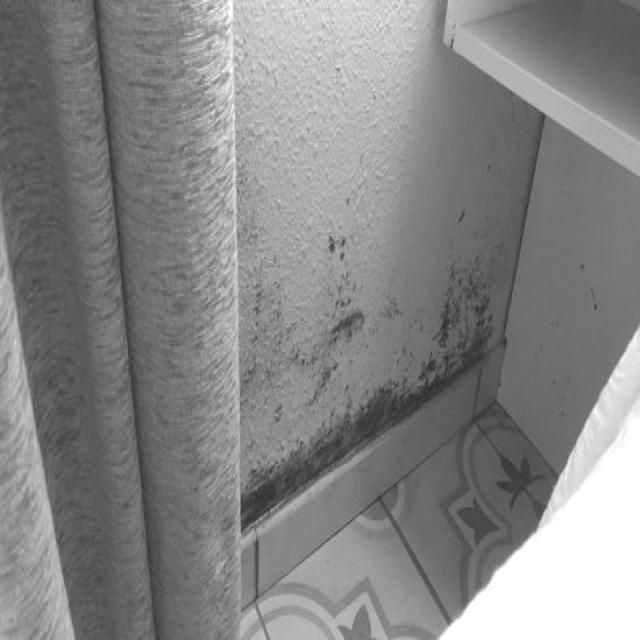stain marks: (244, 206, 497, 534)
